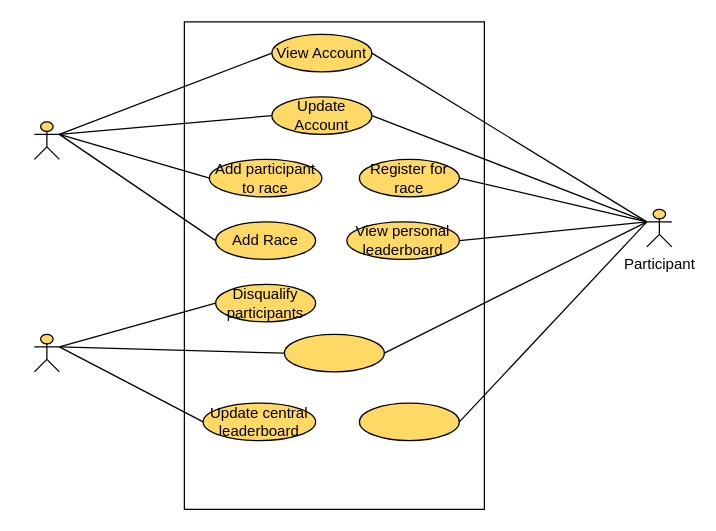
Image size: 716x531. Some labels were removed from this diagram. The shapes that lost their labels are listed below. From the top down, each one's centre as x and y in pixels, then its label:
(x=46, y=140): Admin
(x=46, y=352): System
(x=333, y=352): Get lap information
(x=408, y=421): View central leaderboard
